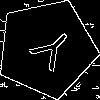Y: (21, 23, 78, 80)
